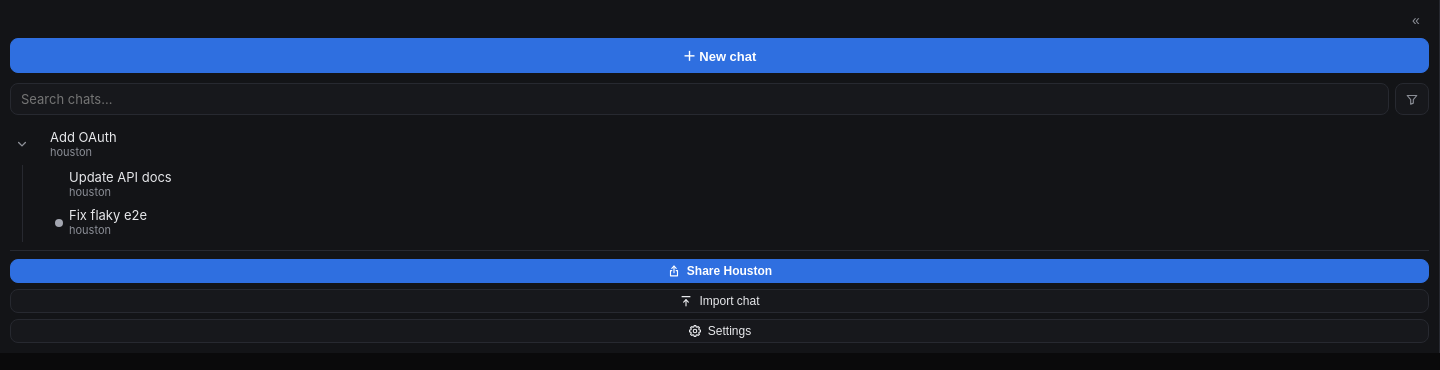
Scenario: Sidebar: spawned chats nest under their parent › folds them away and shows how many are running instead
The width and height of the screenshot is (1440, 370).
Click the button named "Hide 2 spawned sessions".
click(22, 144)  # box [14,136,30,152]
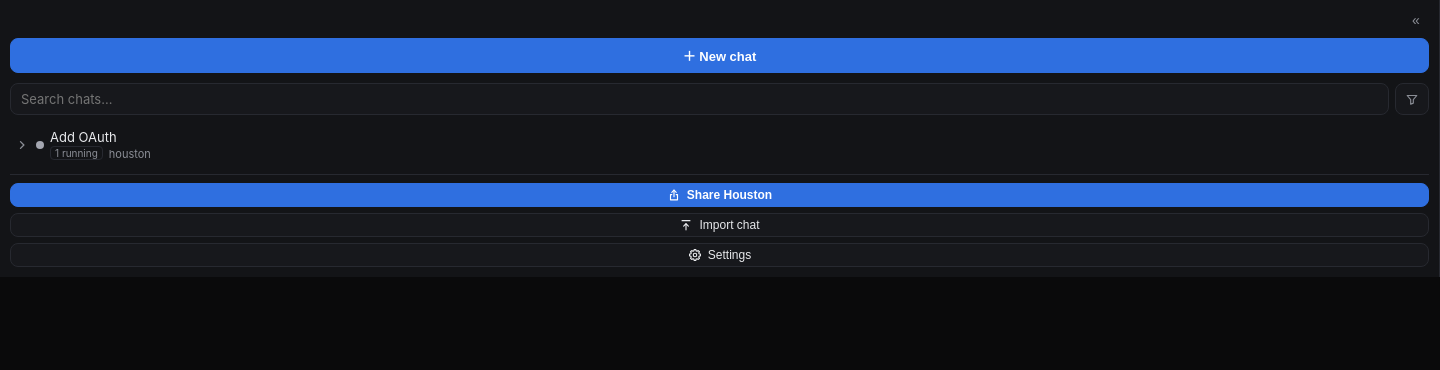
Now the text "Update API docs" is gone
Click the button named "Show 2 spawned sessions".
click(22, 145)  # box [14,137,30,153]
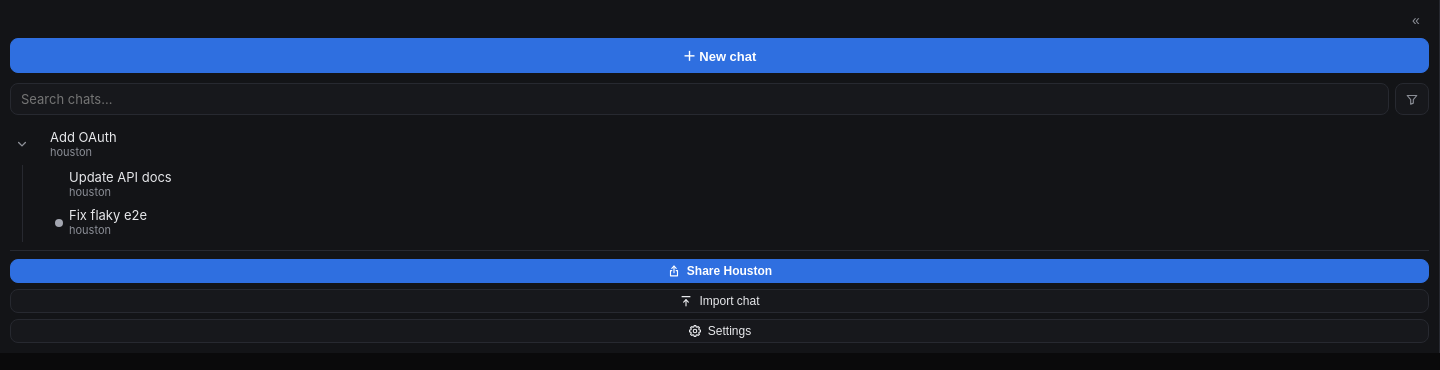
Now the text "1 running" is gone
Now the text "Update API docs" is shown, box [69,169,172,185]
